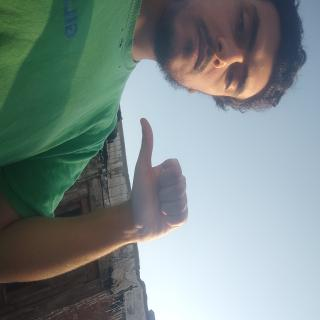DAD: (84, 169, 187, 262)
